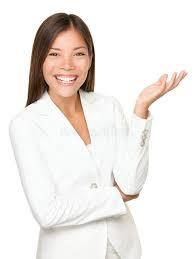person: (26, 7, 104, 100)
